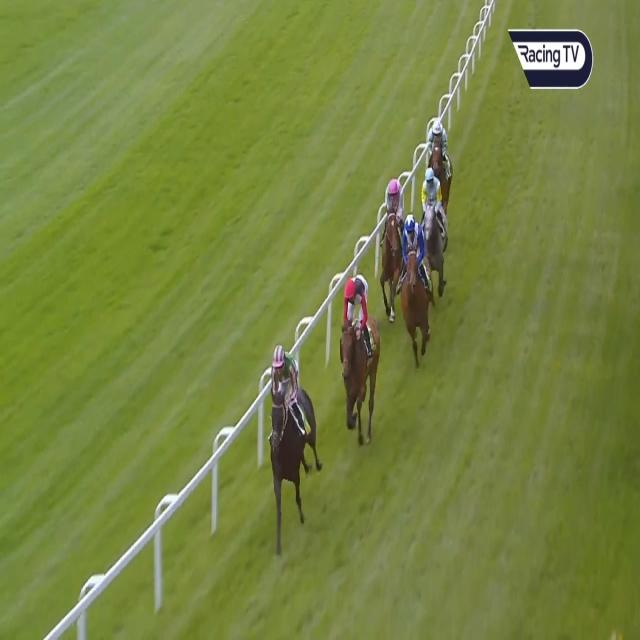horses-racing: (268, 344, 318, 535), (341, 269, 379, 446), (400, 213, 427, 359), (418, 171, 449, 292), (382, 177, 402, 318), (428, 118, 453, 192)
